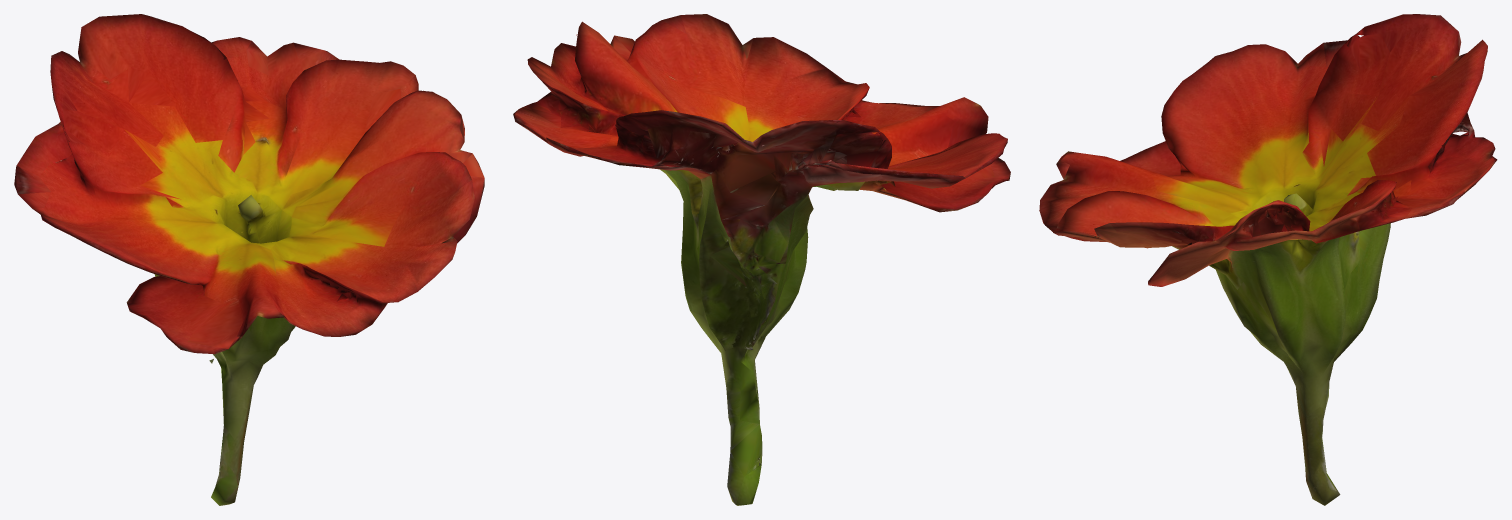
File: new_primula-v2.glb
3 views of the same model, side by side, from view 1: azimuth 30°, elevation 25°; view 2: azimuth 150°, elevation 25°; view 3: azimuth 270°, elevation 25° (orthographic). The views are drawn at different scales.
Visible parts, largest first — view 1: flower1; view 2: flower1; view 3: flower1.
Part boxes in pixels (x1,y1,x2,y2): flower1: [14, 14, 484, 505]; flower1: [513, 14, 1010, 505]; flower1: [1039, 14, 1497, 505].
Size of the model in its own units: 3.87 by 3.98 by 3.79.
1 material, 1 textured.
